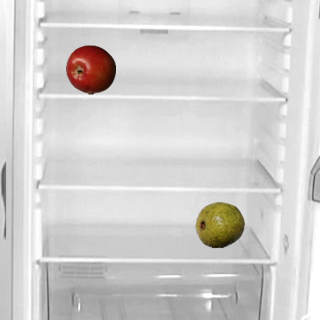Apple Braeburn: (65, 44, 115, 94)
Guava: (194, 199, 244, 249)
